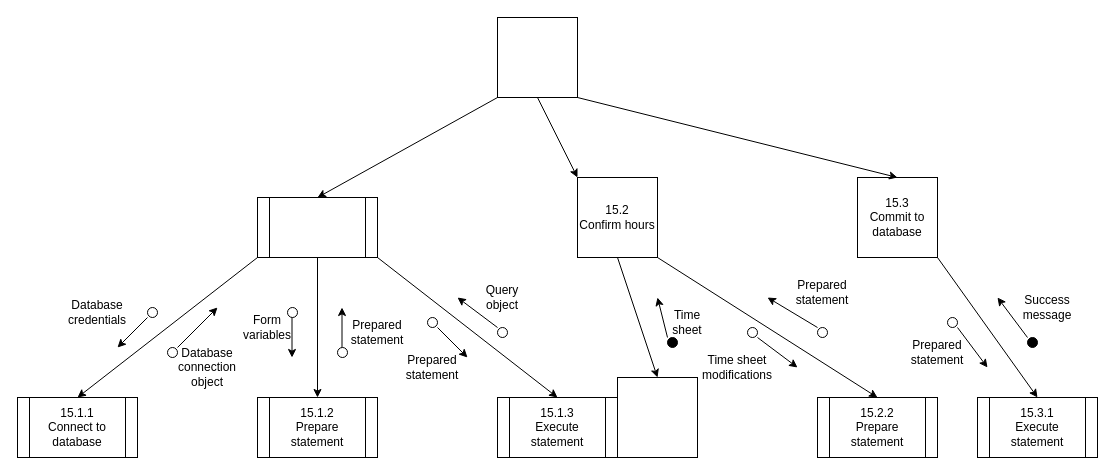
This 1115x475 diagram has some shape labels left out. Each missing label, with the box of its shape:
15.0 Submit hours: (496, 16, 578, 98)
15.1 Query database: (256, 196, 378, 258)
15.2.1 Display time sheet: (616, 376, 698, 458)
